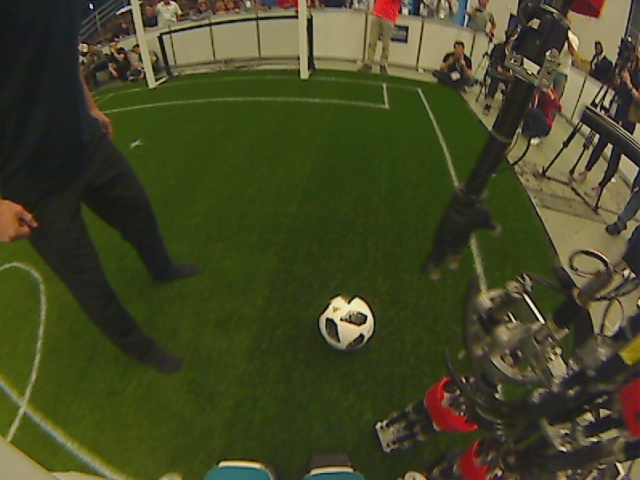ball: (318, 292, 375, 354)
